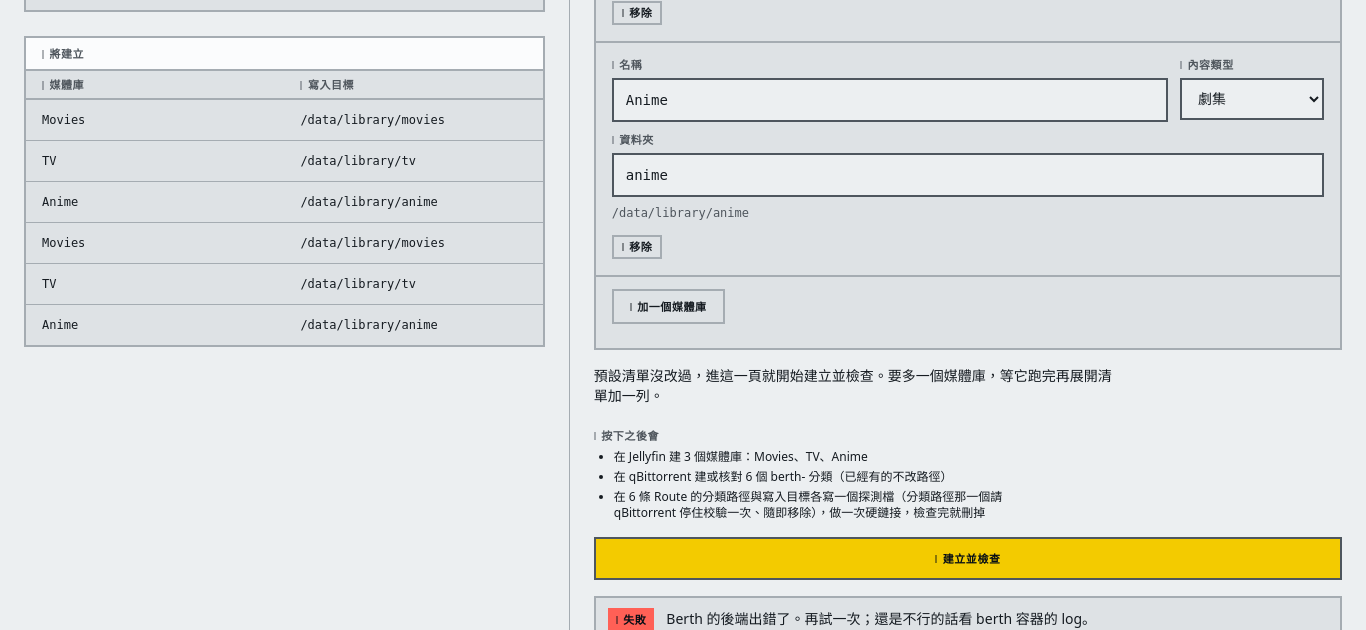
Scenario: 頁 3：清單存不下來而後端沒說理由 › 說出對的原因（500）
The width and height of the screenshot is (1366, 630).
(page scrolled)
Click the button with aria-label "移除「Anime」".
click(637, 247)  # box [612, 235, 662, 259]
(page scrolled)
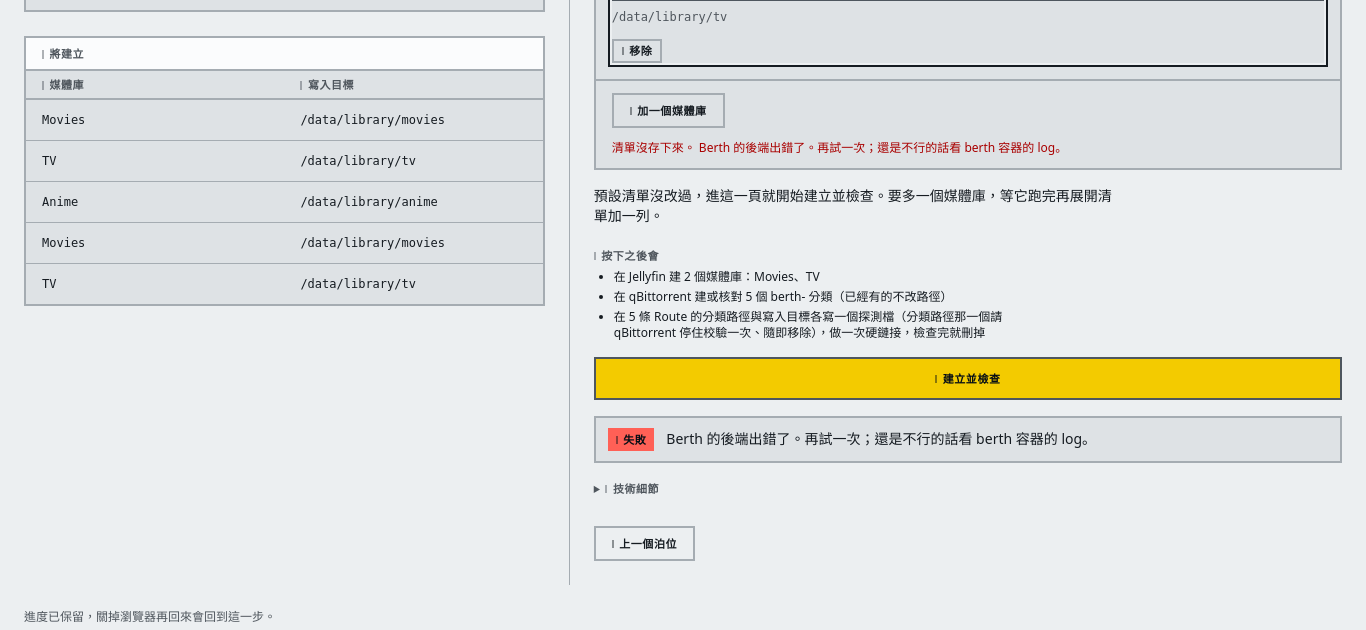
Result: the text "清單沒存下來。 Berth 的後端出錯了。再試一次；還是不行的話看 berth 容器的 log。" is shown at [612, 139, 1067, 156]
